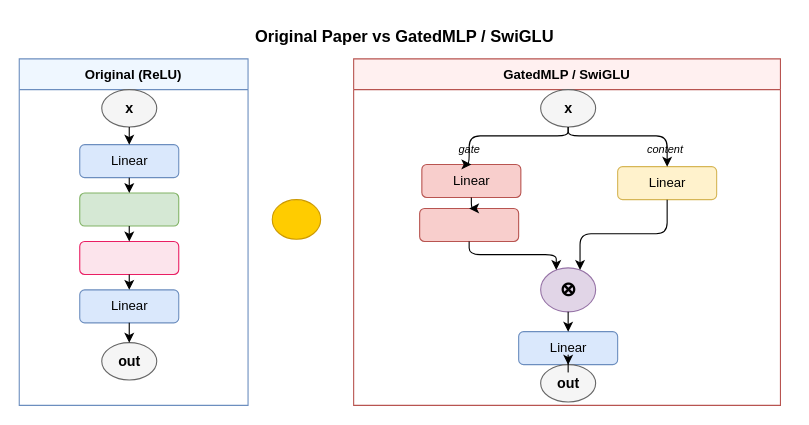
Image size: 809x425. Some labels were removed from this diagram. The centre of each missing label's shape, as x and y in pixels:
BN: the point at 129,209
ReLU: the point at 129,257
SiLU: the point at 469,224
VS: the point at 296,219
